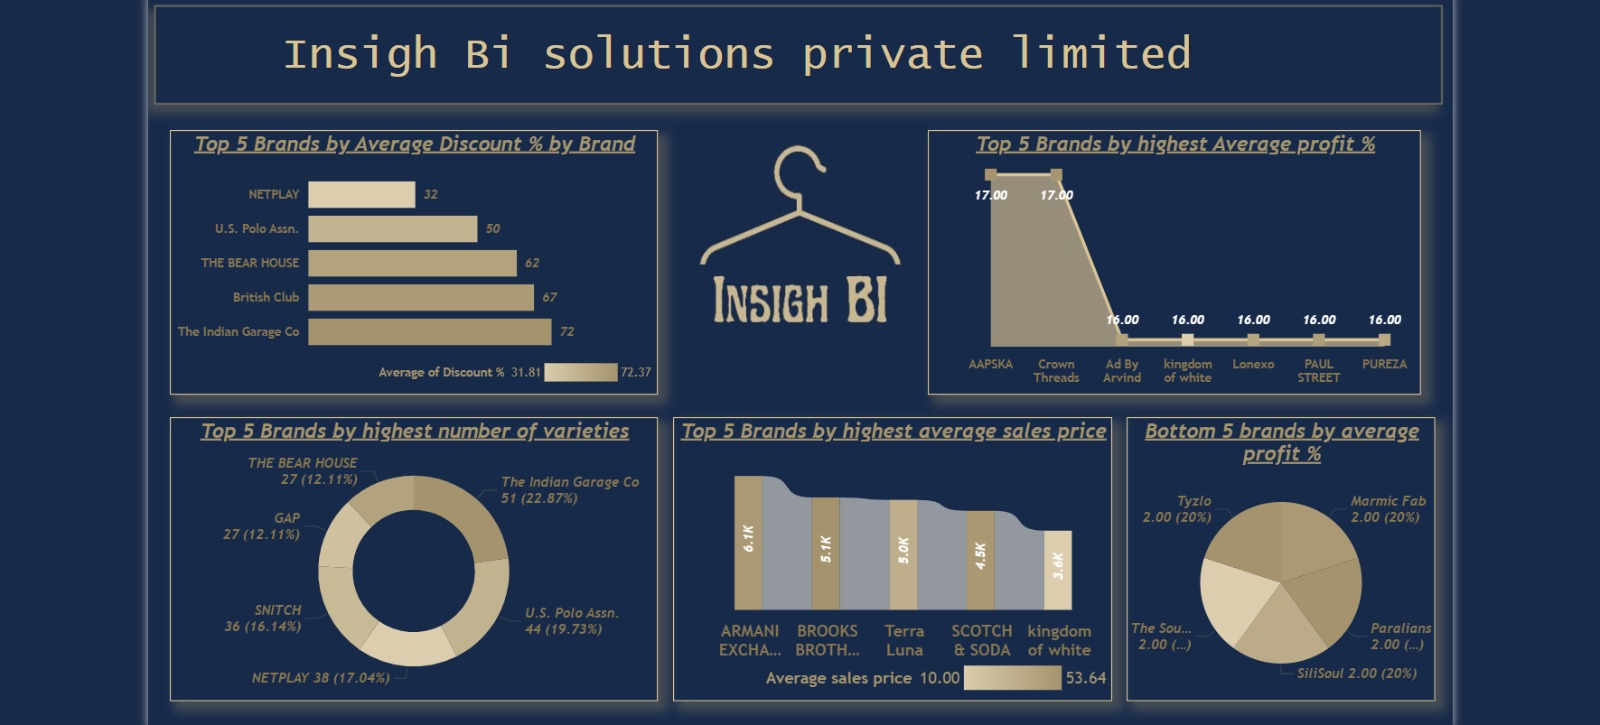

What the dashboard file says about the page in this screenshot:
{"tool":"powerbi","page":{"name":"Details","canvas":[1280,720],"ordinal":1},"visuals":[{"type":"ScrollingTextVisual1448795304508","fields":{"Category":["Men_tshirt.Brand"]},"box":[6.2,10.6,1264.4,96.7],"z":0},{"type":"barChart","title":"Top 5 Brands by Average Discount % by Brand","fields":{"Category":["Men_tshirt.Brand"],"Y":["Avg(Men_tshirt.Discount %)"]},"box":[21.4,133.3,478.5,259.7],"z":1000},{"type":"donutChart","title":"Top 5 Brands by  highest number of varieties","fields":{"Category":["Men_tshirt.Brand"],"Y":["Count(Men_tshirt.Title)"]},"box":[21.3,415,478.8,279.3],"z":2000},{"type":"ribbonChart","title":"Top 5 Brands by  highest average sales price","fields":{"Category":["Men_tshirt.Brand"],"Y":["Avg(Men_tshirt.Sales Price)"]},"box":[515.2,415,430.9,279.3],"z":3000},{"type":"areaChart","title":"Top 5 Brands by highest  Average  profit %","fields":{"Category":["Men_tshirt.Brand"],"Y":["Avg(Men_tshirt.Profit %)"]},"box":[765.2,133,484.1,259.8],"z":4000},{"type":"pieChart","title":"Bottom 5 brands by average profit %","fields":{"Category":["Men_tshirt.Brand"],"Y":["Avg(Men_tshirt.Profit %)"]},"box":[960.3,415,303.3,279.3],"z":5000}]}

Visuals, with their boxes on the page's 1280x720 design canvas (x1, y1, x2, y2). These are canvas units, not pixel positions in the 1600x725 screenshot, which may show the page scaled, cropped or inside an application window:
ScrollingTextVisual1448795304508 - Men_tshirt.Brand: left=6, top=11, right=1271, bottom=107
"Top 5 Brands by Average Discount % by Brand" barChart: left=21, top=133, right=500, bottom=393
"Top 5 Brands by  highest number of varieties" donutChart: left=21, top=415, right=500, bottom=694
"Top 5 Brands by  highest average sales price" ribbonChart: left=515, top=415, right=946, bottom=694
"Top 5 Brands by highest  Average  profit %" areaChart: left=765, top=133, right=1249, bottom=393
"Bottom 5 brands by average profit %" pieChart: left=960, top=415, right=1264, bottom=694
